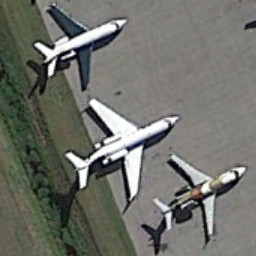Airplane: (55, 95, 182, 200), (150, 148, 250, 250), (25, 1, 133, 93)
